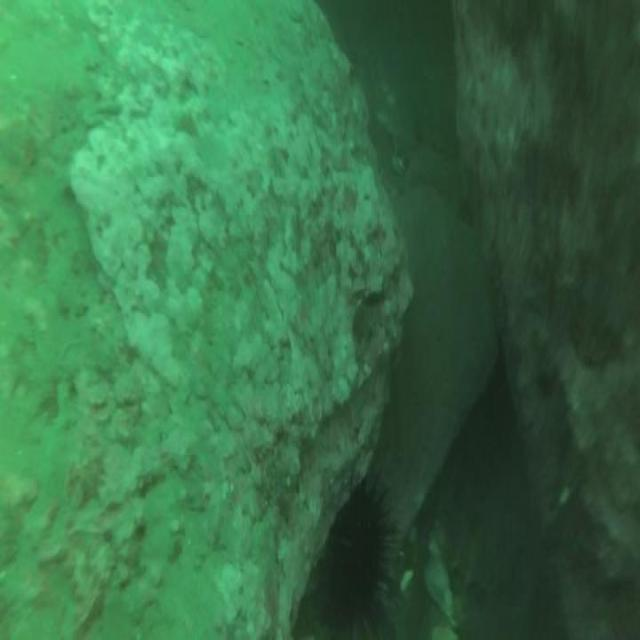echinus: (315, 472, 398, 630)
